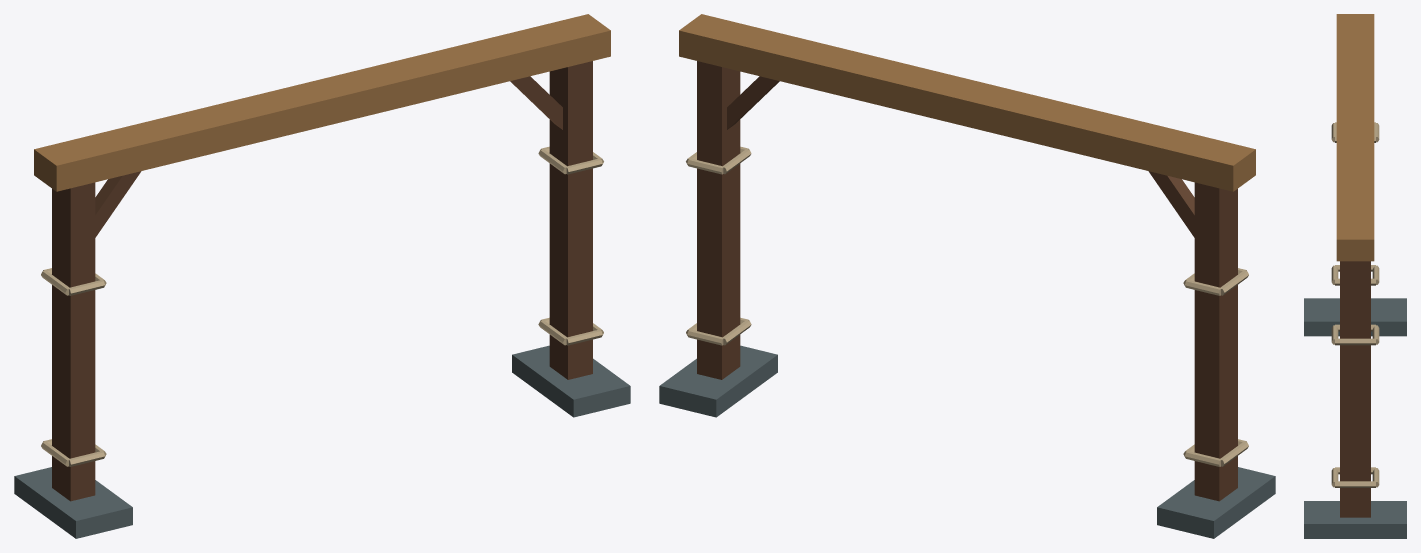
File: PirateCove_CargoSwingFrame_Standard.glb
The picture shows the model from 3 angles, left to right: view 1: azimuth 30°, elevation 25°; view 2: azimuth 150°, elevation 25°; view 3: azimuth 270°, elevation 25°; orthographic projection. The views are drawn at different scales.
Parts seen in each view (by area): view 1: PirateCove_CargoSwingFrame_Standard; view 2: PirateCove_CargoSwingFrame_Standard; view 3: PirateCove_CargoSwingFrame_Standard.
Part boxes in pixels (x1,y1,x2,y2): PirateCove_CargoSwingFrame_Standard: (14, 14, 630, 538); PirateCove_CargoSwingFrame_Standard: (659, 14, 1275, 538); PirateCove_CargoSwingFrame_Standard: (1304, 14, 1406, 538).
Bounding box in the file's own units: 7.8 × 4.83 × 1.5.
